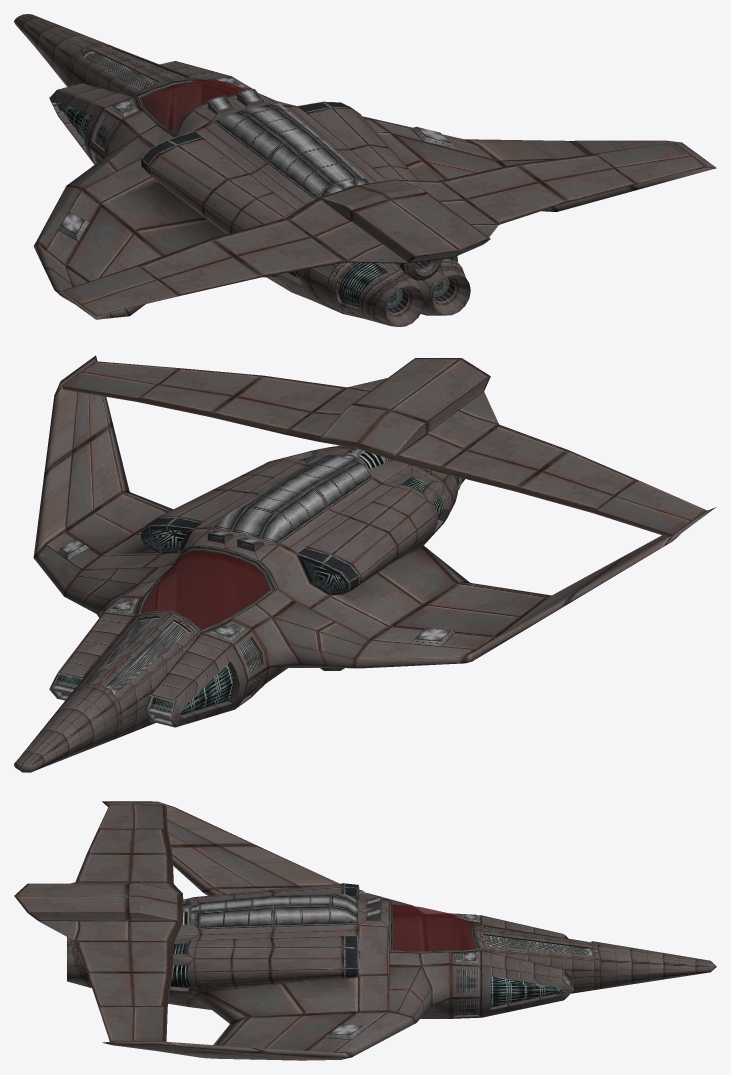
Rendered from hf half.obj.
3 renders of one model, top to bottom at view 1: azimuth 30°, elevation 25°; view 2: azimuth 150°, elevation 25°; view 3: azimuth 270°, elevation 25°, orthographic. The views are drawn at different scales.
Parts seen in each view (by area): view 1: Cube.002; view 2: Cube.002; view 3: Cube.002.
Part boxes in pixels (left/top/right/bottom): Cube.002: left=14, top=14, right=716, bottom=326; Cube.002: left=14, top=355, right=716, bottom=772; Cube.002: left=14, top=801, right=716, bottom=1060.
Size of the model in its own units: 13.28 by 2.75 by 16.34.
7 materials, 6 textured.
